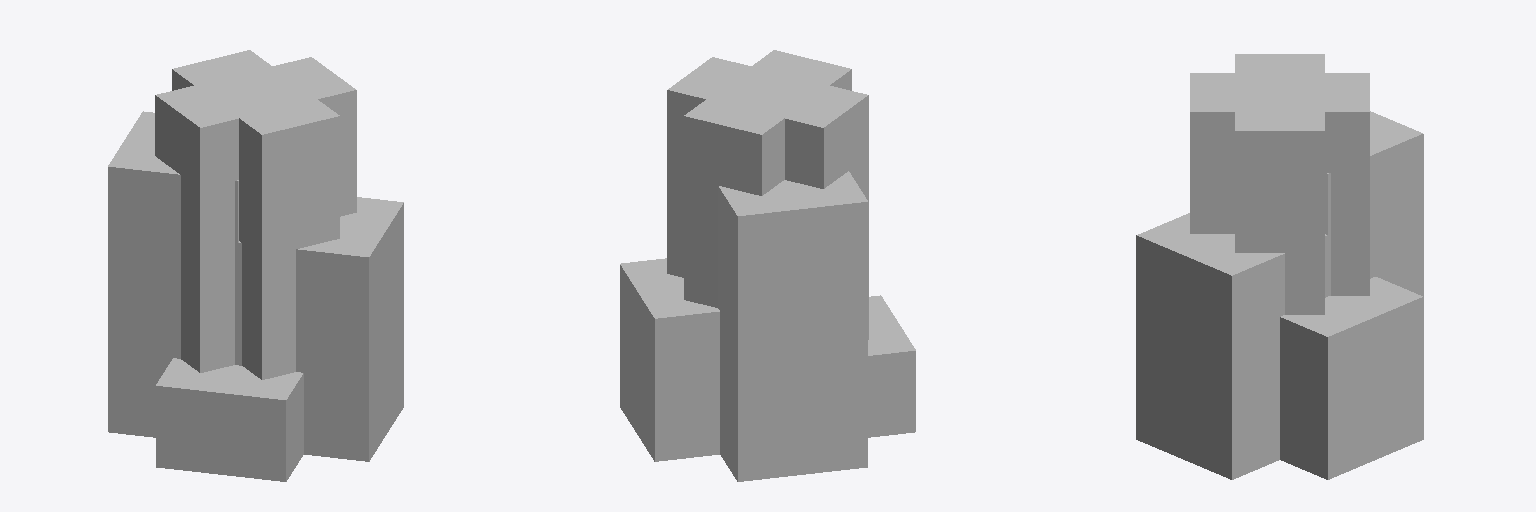
File: stones_dripstone_3.obj
3 renders of one model, left to right at view 1: azimuth 30°, elevation 25°; view 2: azimuth 150°, elevation 25°; view 3: azimuth 270°, elevation 25°, orthographic.
Parts seen in each view (by area): view 1: dripstone_2; view 2: dripstone_2; view 3: dripstone_2.
Boxes of the visible parts, box(x1,y1,x2,y2) form: dripstone_2: box(108, 50, 403, 481); dripstone_2: box(620, 50, 915, 481); dripstone_2: box(1136, 54, 1423, 479).
Size of the model in its own units: 0.7955 by 1 by 0.7955.